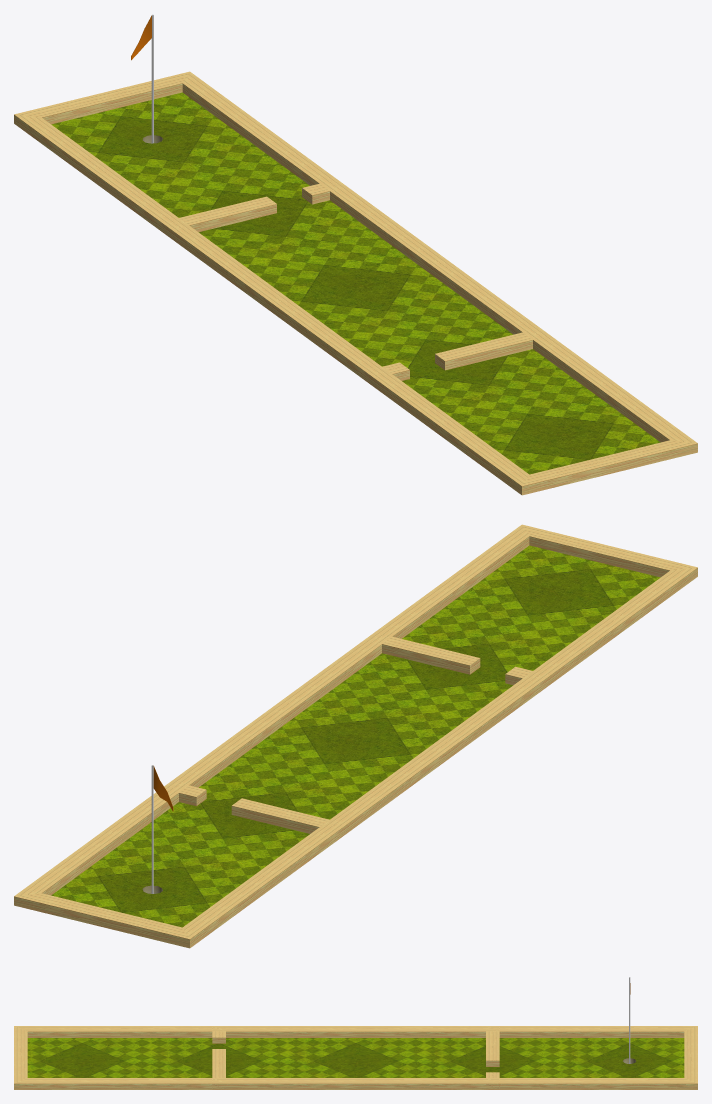
Rendered from course1_hole6.fbx.
3 renders of one model, top to bottom at view 1: azimuth 30°, elevation 25°; view 2: azimuth 150°, elevation 25°; view 3: azimuth 270°, elevation 25°, orthographic. The views are drawn at different scales.
Visible parts, largest first — view 1: course1_hole6_ground, course1_hole6_walls; view 2: course1_hole6_ground, course1_hole6_walls, course1_hole6_flag; view 3: course1_hole6_ground, course1_hole6_walls.
Boxes of the visible parts, x1,y1,x2,y2 form: course1_hole6_ground: [51, 92, 660, 474]; course1_hole6_walls: [14, 71, 697, 495]; course1_hole6_ground: [51, 545, 660, 927]; course1_hole6_walls: [14, 524, 697, 948]; course1_hole6_flag: [151, 765, 173, 893]; course1_hole6_ground: [27, 1038, 684, 1077]; course1_hole6_walls: [14, 1026, 697, 1089].
Bounding box in the file's own units: 3 × 2.25 × 15.
